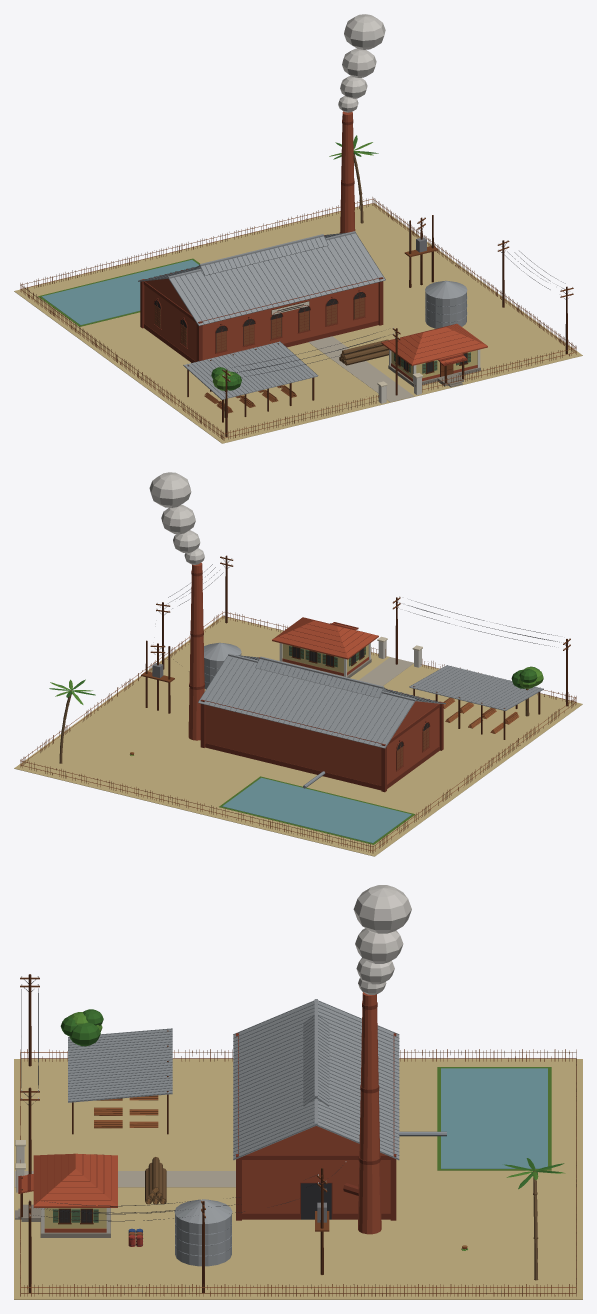
File: power_plant.glb
3 renders of one model, top to bottom at view 1: azimuth 30°, elevation 25°; view 2: azimuth 150°, elevation 25°; view 3: azimuth 270°, elevation 25°, orthographic. The views are drawn at different scales.
Visible parts, largest first — view 1: body, windows; view 2: body; view 3: body.
Part boxes in pixels (x1=…): body: x1=14, y1=14, x2=582, y2=443; windows: x1=154, y1=292, x2=466, y2=372; body: x1=14, y1=472, x2=582, y2=856; body: x1=14, y1=885, x2=582, y2=1299.
Bounding box in the file's own units: 47.9 × 33.38 × 47.9.
